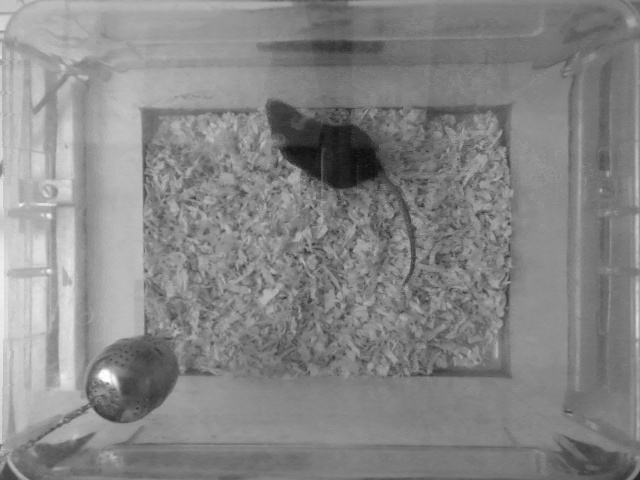mice: (259, 94, 418, 292)
